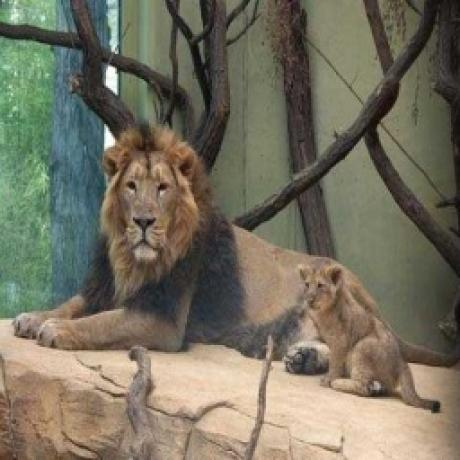Lion: (14, 123, 456, 375), (297, 261, 443, 417)
